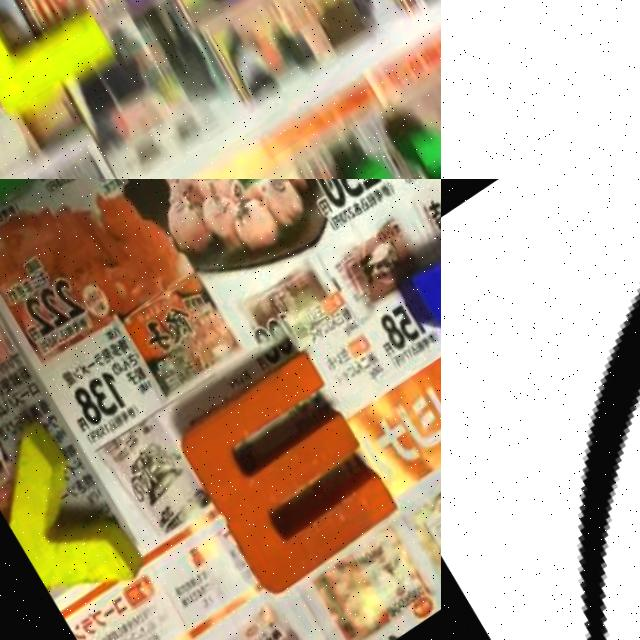9: (441, 179, 640, 640)
L: (0, 0, 123, 128)
N: (391, 198, 441, 456)
T: (77, 0, 261, 56)
W: (167, 345, 411, 612)
Y: (184, 179, 400, 232)
